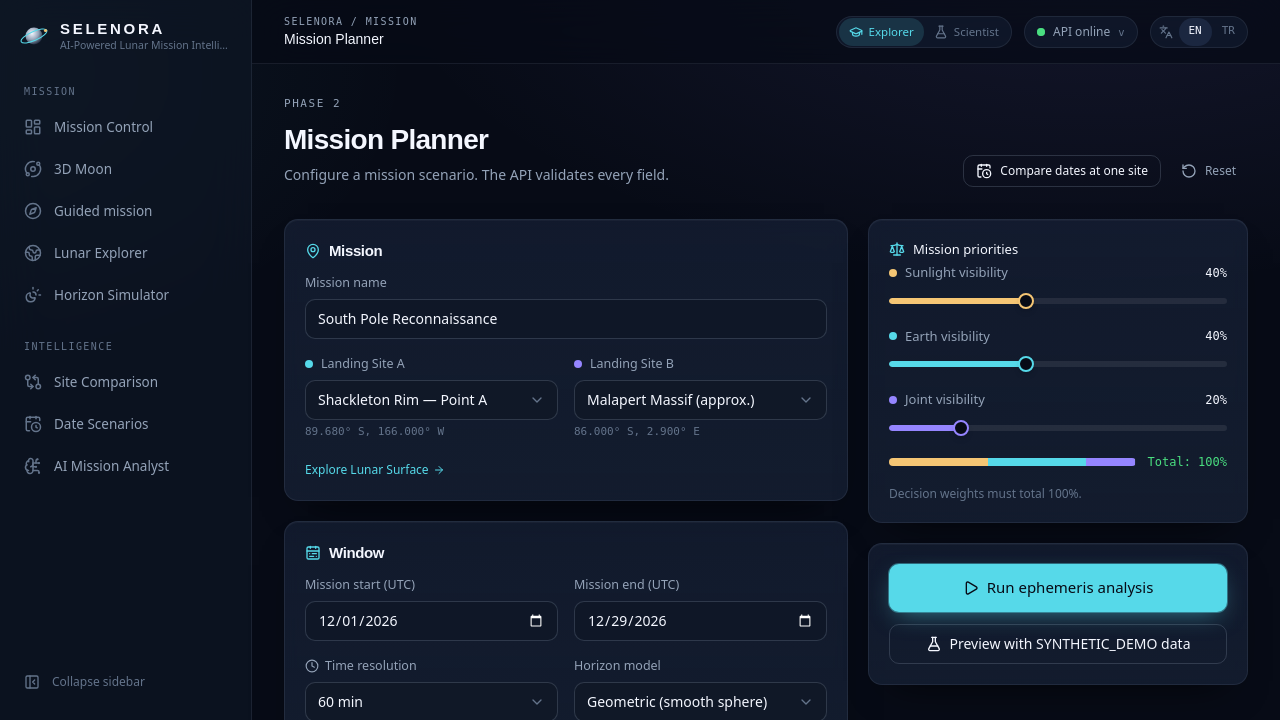
Test case: Planner A/B site selects (dark-theme Radix) › opens Site A menu with readable reference and custom options
Click the dropdown with test id "planner-siteA-trigger": click(432, 400) [305,380,558,420]
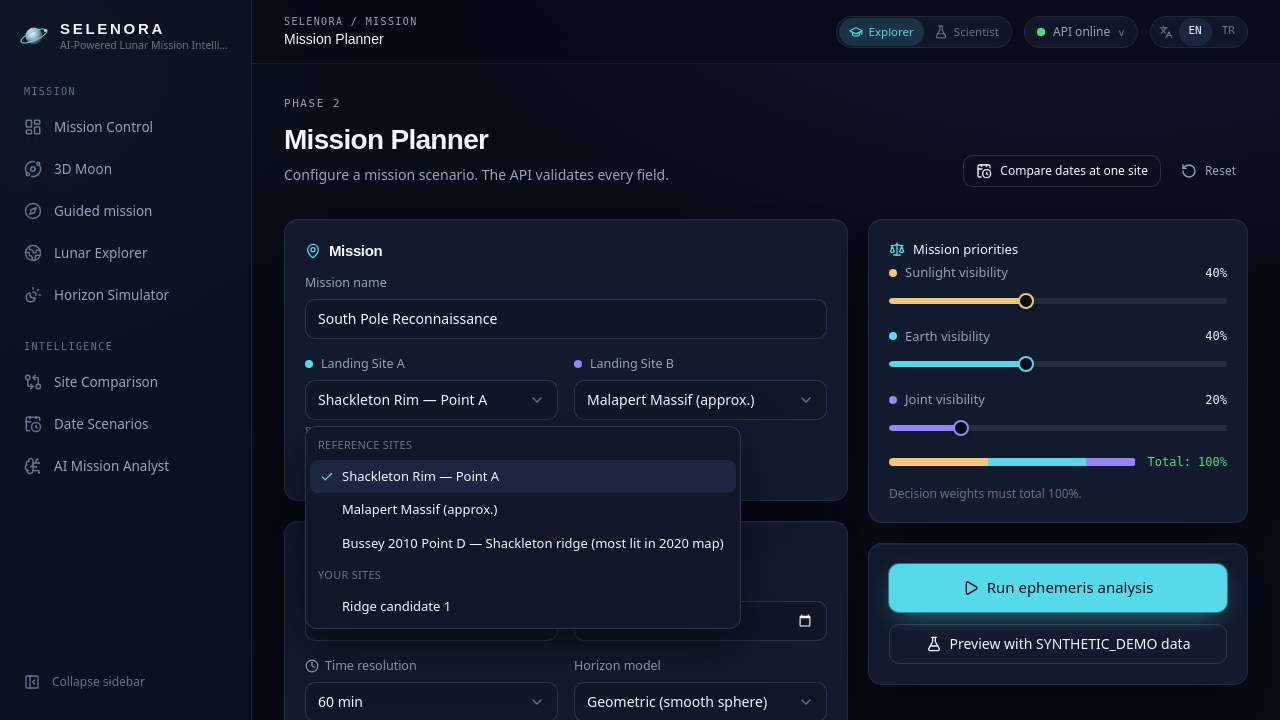
Result: the text "Shackleton Rim — Point A" below "Reference sites" is shown at [342,466,499,484]
Result: the text "Bussey 2010 Point D — Shackleton ridge (most lit in 2020 map)" is shown at [342,535,724,553]
Result: the text "Ridge candidate 1" is shown at [342,598,451,616]
